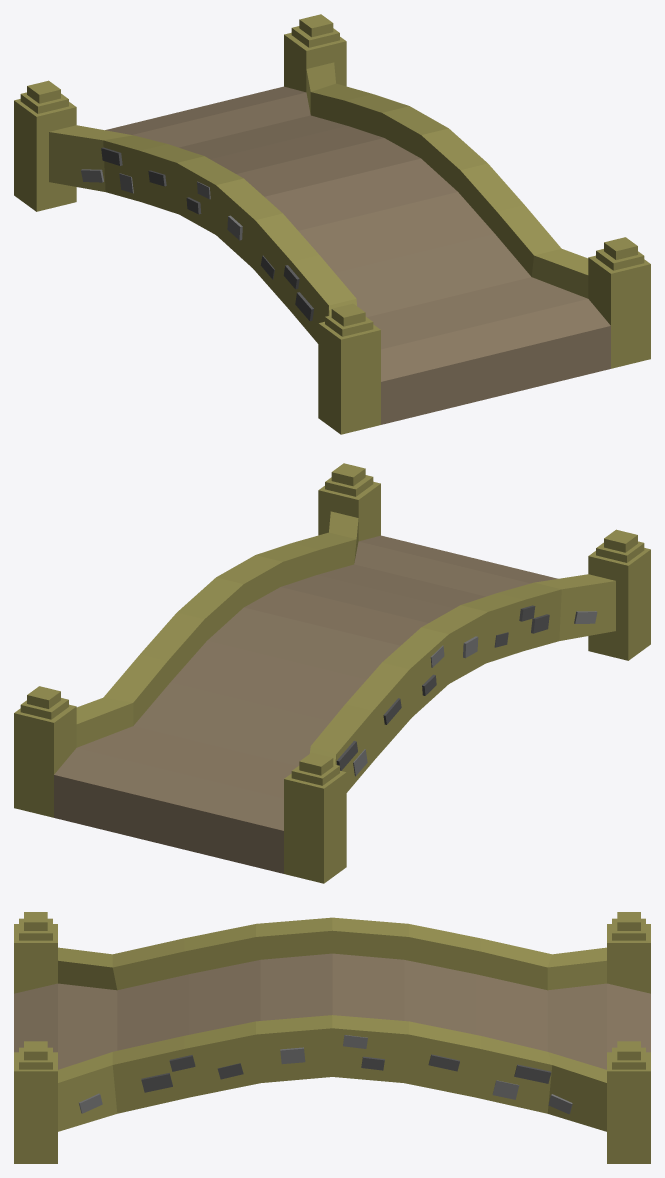
The model's file is Bridge.fbx.
3 views of the same model, one above another, from view 1: azimuth 30°, elevation 25°; view 2: azimuth 150°, elevation 25°; view 3: azimuth 270°, elevation 25° (orthographic). The views are drawn at different scales.
Visible parts, largest first — view 1: Bridge; view 2: Bridge; view 3: Bridge.
Part boxes in pixels (box(x1,y1,x2,y2)): Bridge: box(14, 14, 650, 434); Bridge: box(14, 463, 650, 883); Bridge: box(14, 912, 650, 1163).
Bounding box in the file's own units: 4.43 × 1.65 × 8.1.
